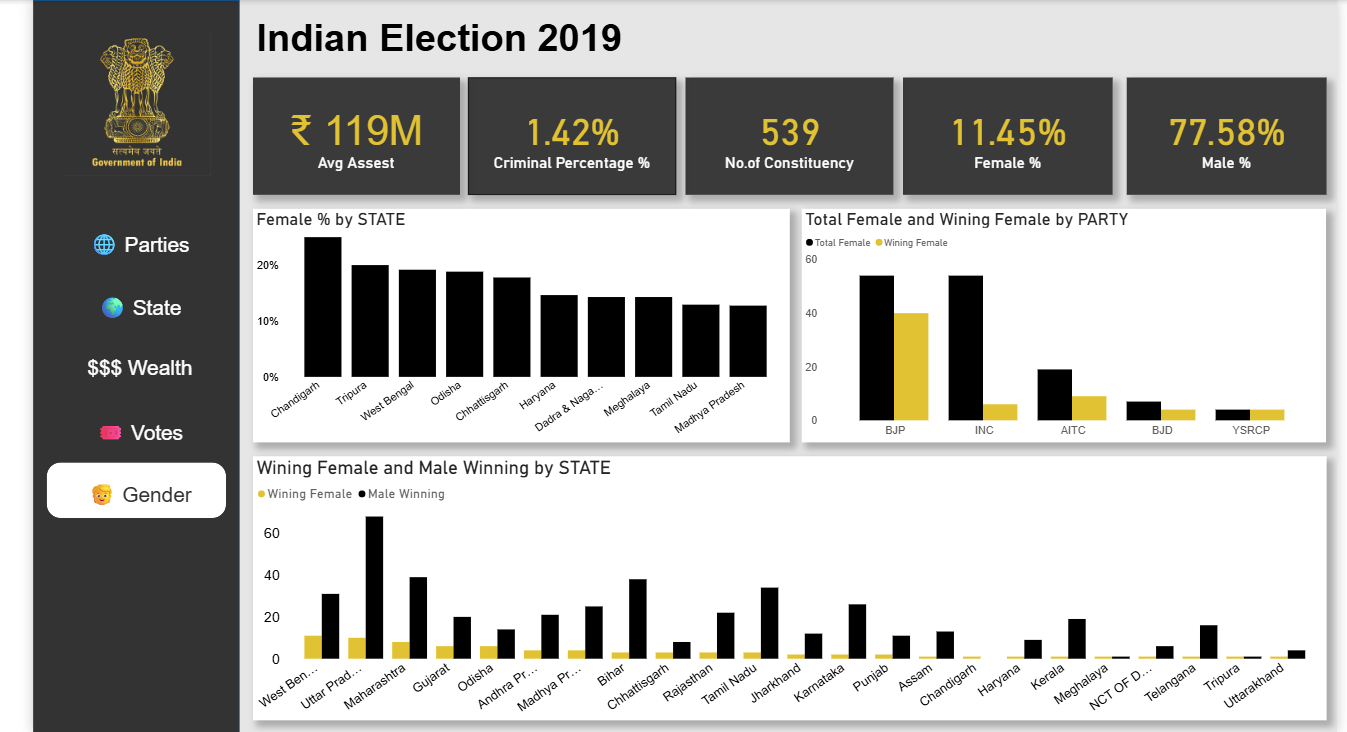

The dashboard page shown, as its layout file describes it:
{"tool":"powerbi","page":{"name":"🧒 Gender","canvas":[1920,1080],"ordinal":4},"visuals":[{"type":"clusteredColumnChart","fields":{"Y":["Election_2019.Female %"],"Category":["Election_2019.STATE"]},"box":[323.2,306.7,790.4,343.7],"z":3},{"type":"clusteredColumnChart","fields":{"Category":["Election_2019.PARTY"],"Y":["Election_2019.Total Female","Election_2019.Wining Female"]},"box":[1132.1,306.7,771.9,343.7],"z":4},{"type":"clusteredColumnChart","fields":{"Category":["Election_2019.STATE"],"Y":["Election_2019.Wining Female","Election_2019.Male Winning"]},"box":[323.2,671,1580.8,389],"z":7},{"type":"shape","box":[0,0,304.1,1080.4],"z":8},{"type":"pageNavigator","box":[20.5,313.5,265,451.6],"z":9},{"type":"textbox","box":[323.9,18.4,577.9,95.7],"z":10},{"type":"card","fields":{"Values":["Election_2019.Avg Assest"]},"box":[323.2,113.2,304.6,172.9],"z":11},{"type":"card","fields":{"Values":["Election_2019.Criminal Percentage %"]},"box":[640.1,113.2,306.7,172.9],"z":12},{"type":"card","fields":{"Values":["Election_2019.No.of Constituency"]},"box":[961.2,113.2,306.7,172.9],"z":13},{"type":"card","fields":{"Values":["Election_2019.Female %"]},"box":[1280.3,113.2,308.7,172.9],"z":14},{"type":"card","fields":{"Values":["Election_2019.Male %"]},"box":[1609.6,113.2,294.3,172.9],"z":15},{"type":"image","box":[20.5,37.3,265,227.6],"z":16}]}

Visuals, with their boxes on the page's 1920x1080 design canvas (x1, y1, x2, y2). These are canvas units, not pixel positions in the 1347x732 screenshot, which may show the page scaled, cropped or inside an application window:
clusteredColumnChart - Election_2019.Female % x Election_2019.STATE: left=323, top=307, right=1114, bottom=650
clusteredColumnChart - Election_2019.PARTY x Election_2019.Total Female: left=1132, top=307, right=1904, bottom=650
clusteredColumnChart - Election_2019.STATE x Election_2019.Wining Female: left=323, top=671, right=1904, bottom=1060
shape: left=0, top=0, right=304, bottom=1080
pageNavigator: left=20, top=314, right=286, bottom=765
textbox: left=324, top=18, right=902, bottom=114
card - Election_2019.Avg Assest: left=323, top=113, right=628, bottom=286
card - Election_2019.Criminal Percentage %: left=640, top=113, right=947, bottom=286
card - Election_2019.No.of Constituency: left=961, top=113, right=1268, bottom=286
card - Election_2019.Female %: left=1280, top=113, right=1589, bottom=286
card - Election_2019.Male %: left=1610, top=113, right=1904, bottom=286
image: left=20, top=37, right=286, bottom=265
